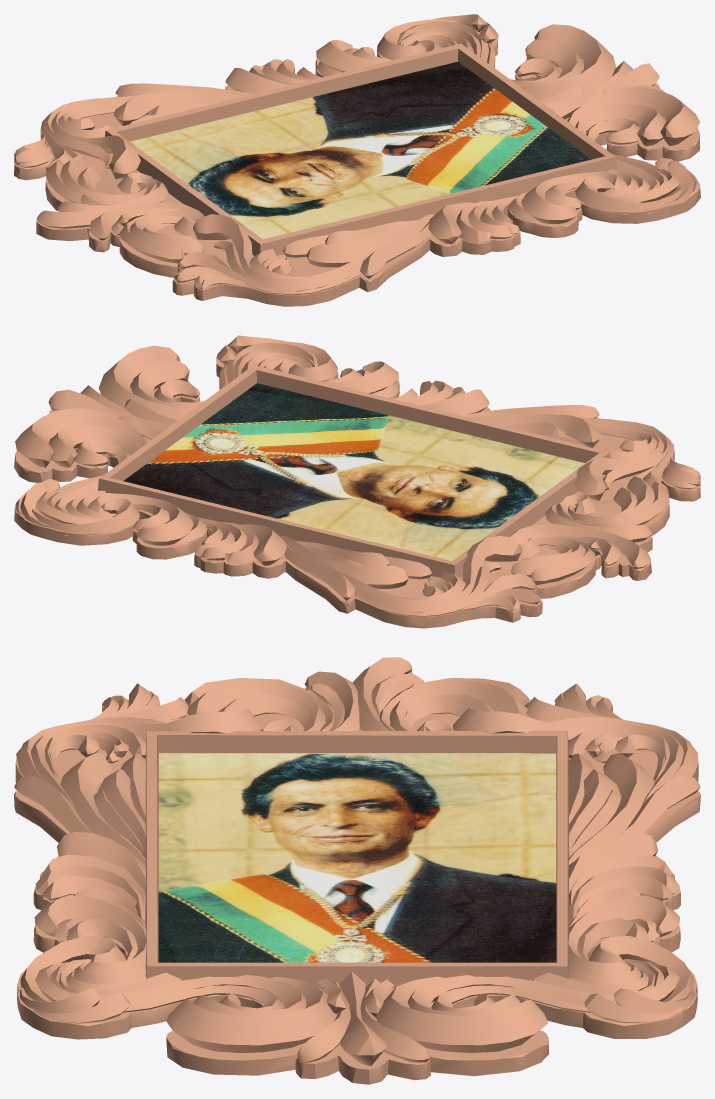
The model's file is retrato.fbx.
The picture shows the model from 3 angles, top to bottom: view 1: azimuth 30°, elevation 25°; view 2: azimuth 150°, elevation 25°; view 3: azimuth 270°, elevation 25°; orthographic projection. The views are drawn at different scales.
Visible parts, largest first — view 1: bot; view 2: bot; view 3: bot.
Part boxes in pixels (bbox=[...]): bot: bbox=[14, 14, 700, 306]; bot: bbox=[14, 335, 700, 628]; bot: bbox=[14, 657, 700, 1084].
Bounding box in the file's own units: 1176 × 72.61 × 846.
Materials: 2 (1 with a texture image).
